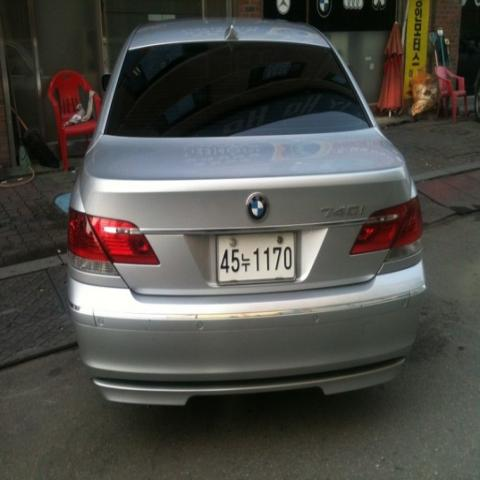LP: (212, 225, 301, 294)
